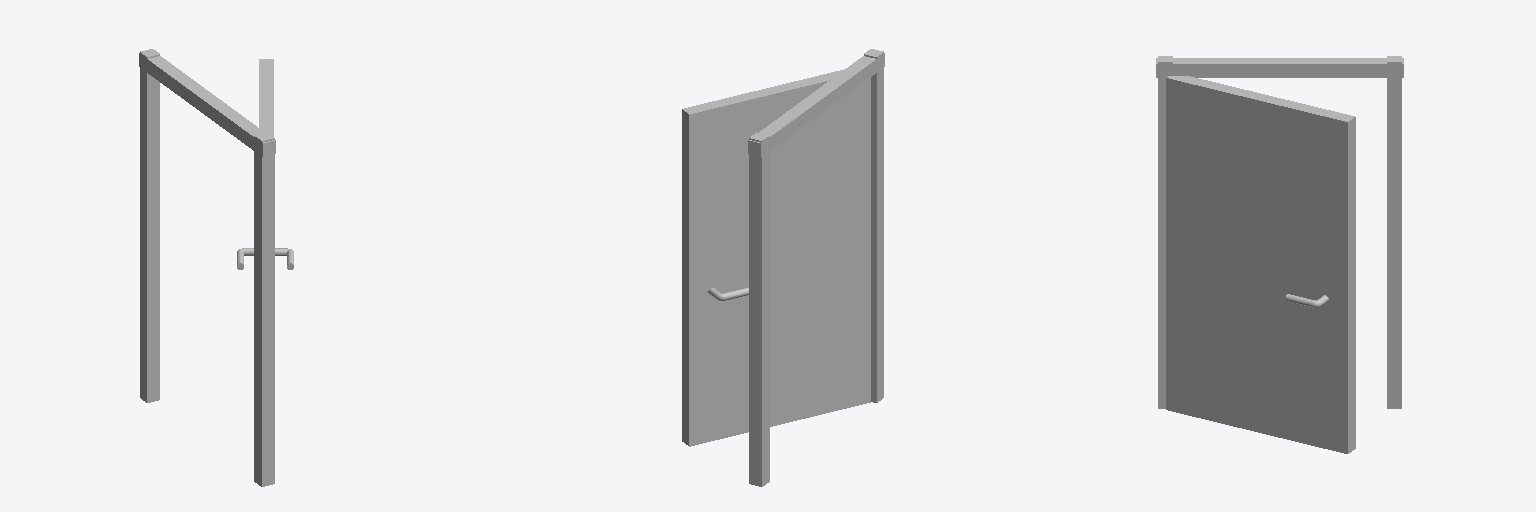
File: door.obj
3 views of the same model, side by side, from view 1: azimuth 30°, elevation 25°; view 2: azimuth 150°, elevation 25°; view 3: azimuth 270°, elevation 25° (orthographic).
Parts seen in each view (by area): view 1: Cube.001, Cube.002, Cube, Cube.003; view 2: Cube.003, Cube.002, Cube.001, Cube; view 3: Cube.003, Cube.002, Cube, Cube.001.
Part boxes in pixels (left/top/right/bottom): Cube.001: left=254, top=132, right=274, bottom=486; Cube.002: left=140, top=49, right=159, bottom=402; Cube: left=139, top=53, right=275, bottom=156; Cube.003: left=259, top=59, right=273, bottom=136; Cube.003: left=682, top=69, right=870, bottom=446; Cube.002: left=749, top=132, right=769, bottom=486; Cube.001: left=864, top=49, right=883, bottom=402; Cube: left=748, top=53, right=884, bottom=156; Cube.003: left=1166, top=76, right=1355, bottom=453; Cube.002: left=1387, top=56, right=1401, bottom=408; Cube: left=1156, top=58, right=1403, bottom=77; Cube.001: left=1158, top=56, right=1172, bottom=408.
Bounding box in the file's own units: 3.34 × 10 × 6.5.